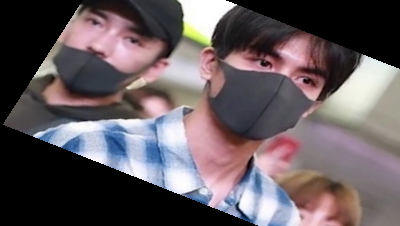mask_weared_incorrect: (45, 1, 191, 116)
